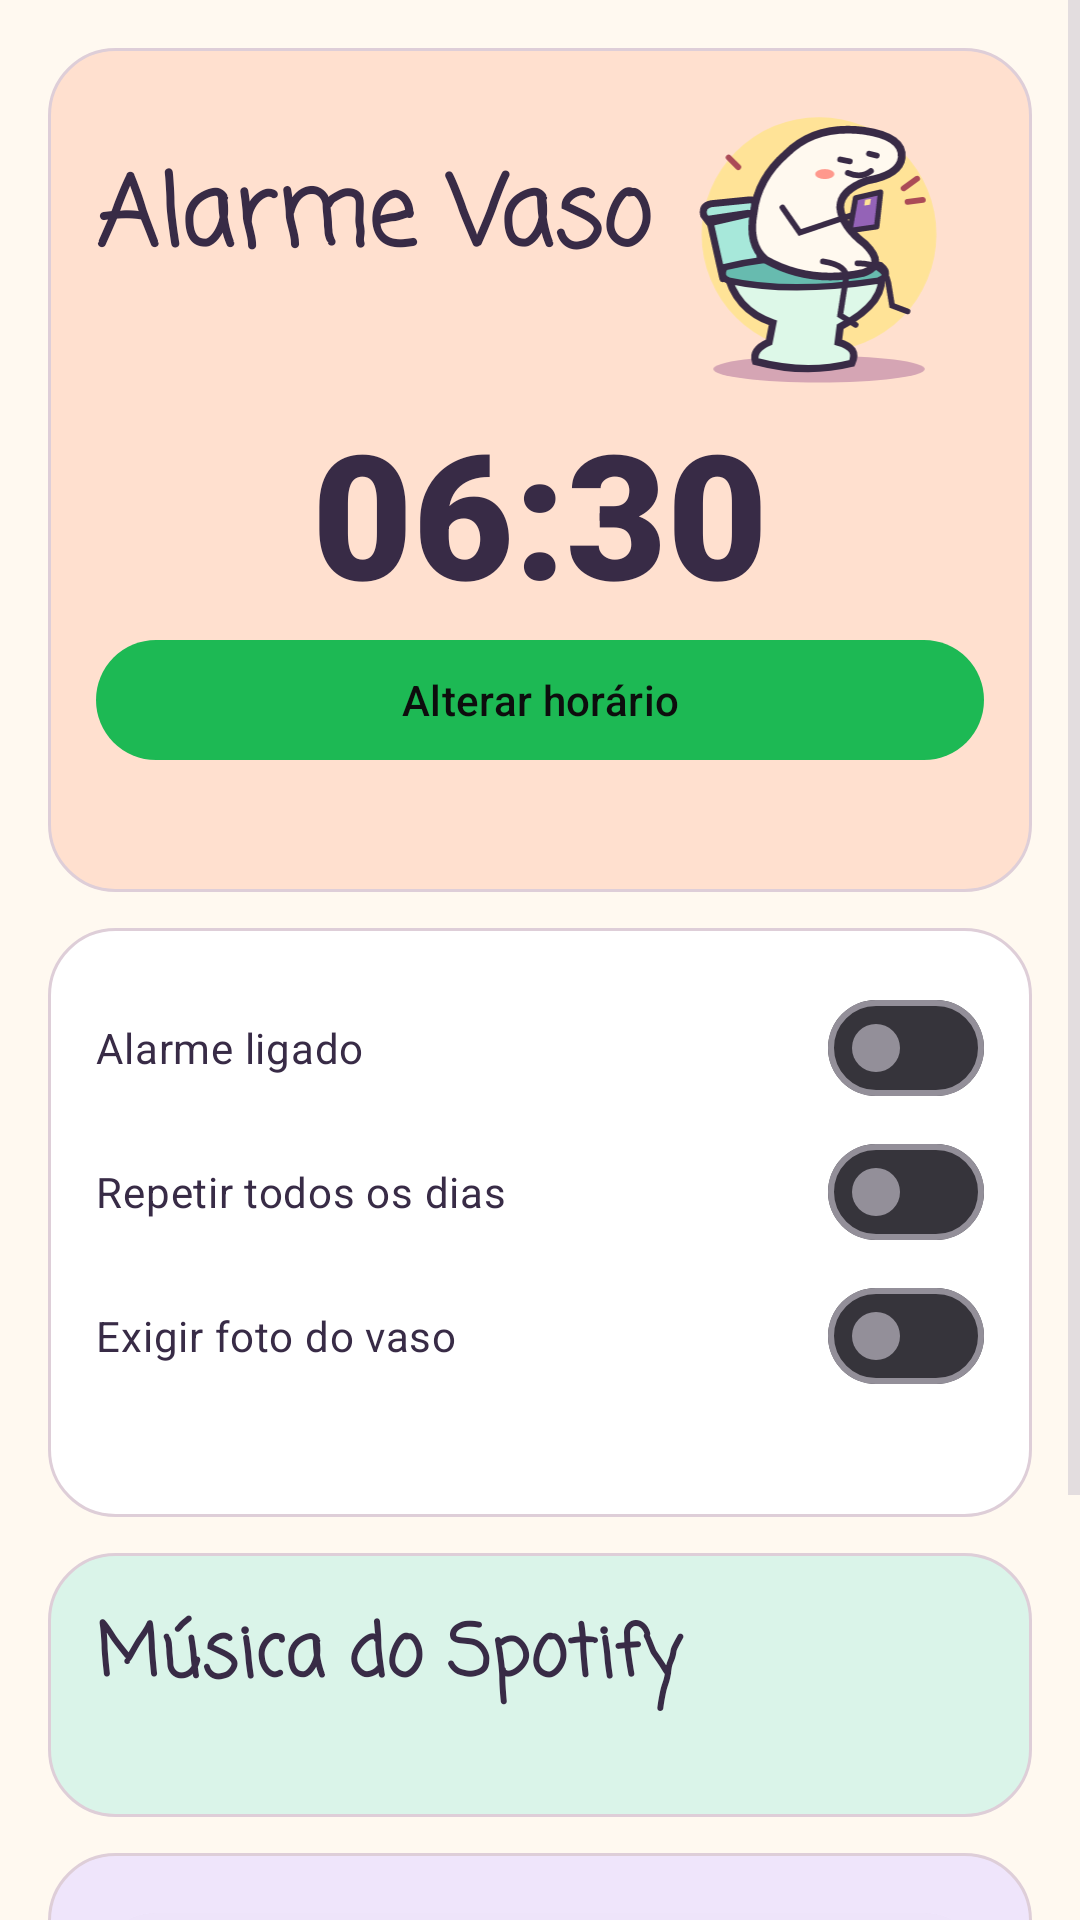

Named icons in this screenshot (1080 x 1920) and their bounding boxes, (x1, y1, x2, y2):
mascote: (699, 117, 937, 383)
